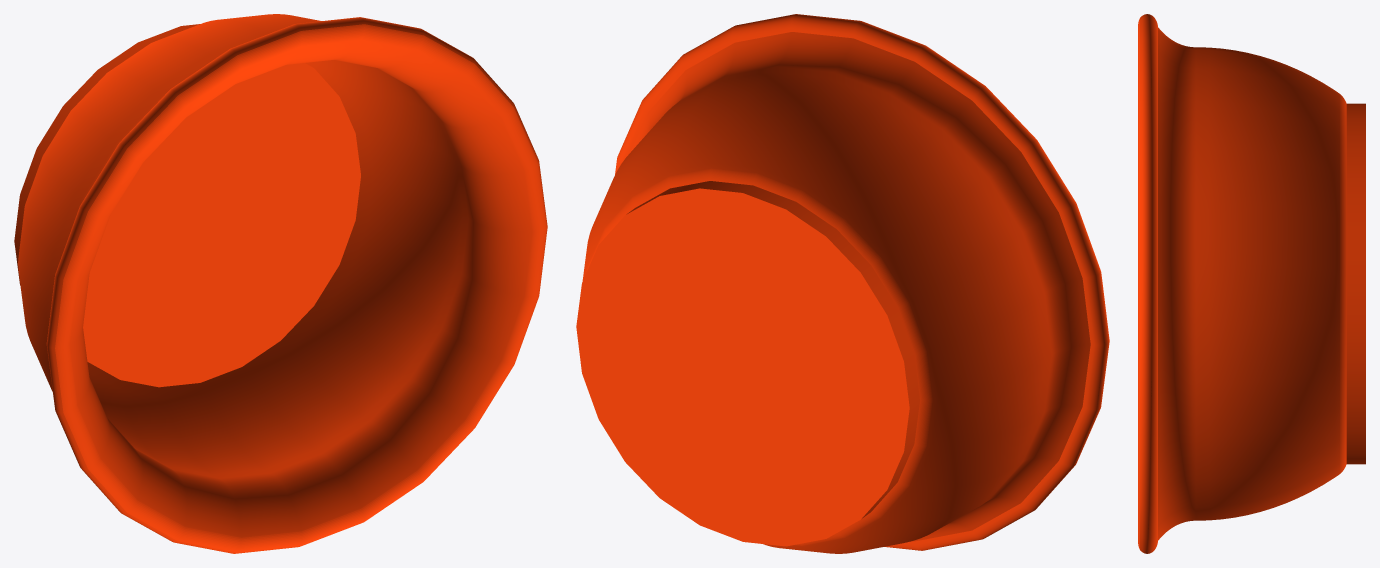
Rendered from model_scale.obj.
3 renders of one model, left to right at view 1: azimuth 30°, elevation 25°; view 2: azimuth 150°, elevation 25°; view 3: azimuth 270°, elevation 25°, orthographic. The views are drawn at different scales.
Parts seen in each view (by area): view 1: mesh1_mesh1-geometry; view 2: mesh1_mesh1-geometry; view 3: mesh1_mesh1-geometry.
Part boxes in pixels (bbox=[...]): mesh1_mesh1-geometry: bbox=[14, 14, 547, 553]; mesh1_mesh1-geometry: bbox=[576, 14, 1109, 553]; mesh1_mesh1-geometry: bbox=[1138, 14, 1365, 553].
Size of the model in its own units: 0.1668 by 0.1668 by 0.0701.
